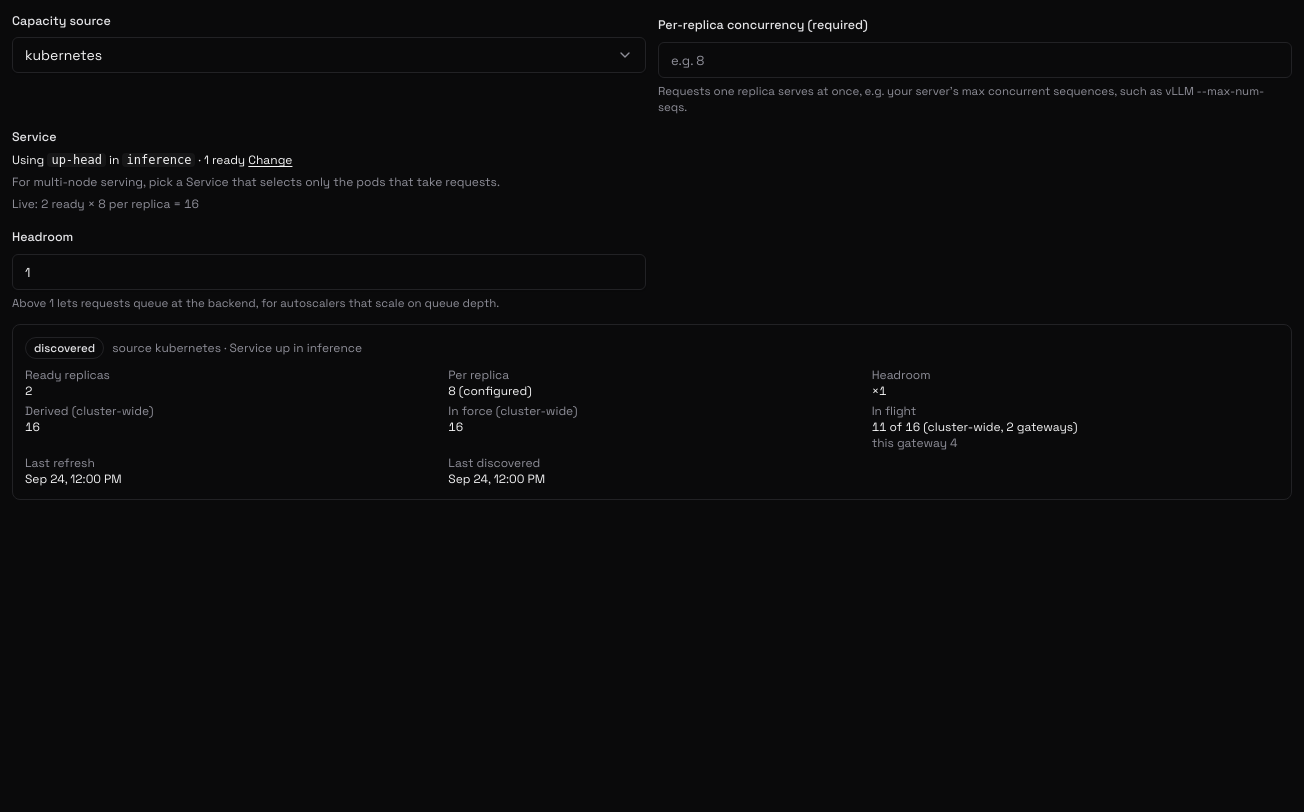
Test: the discovered capacity mode › clears the Service and namespace with Use default
Click the button "Change": (270, 160) [248,152,292,168]
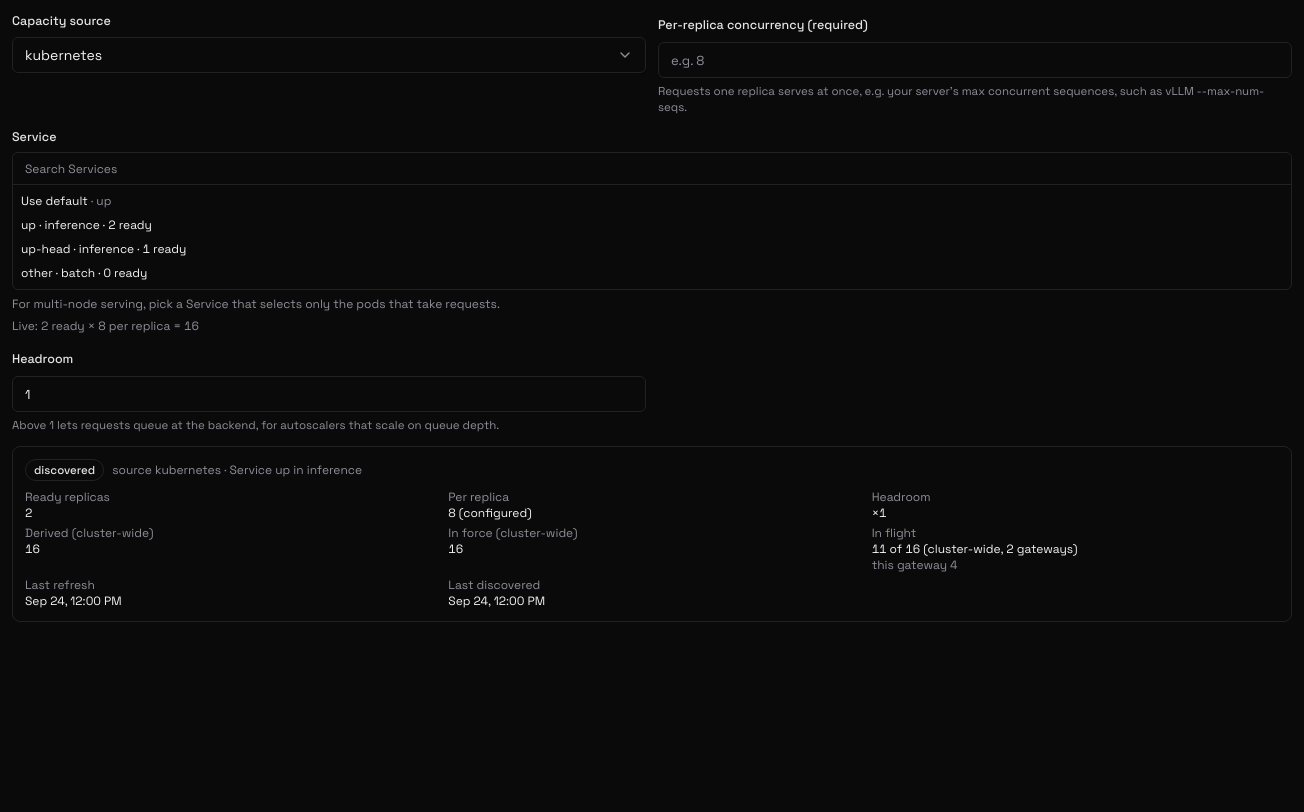
Click the option "Use default · up": (54, 201) [13,189,1291,213]
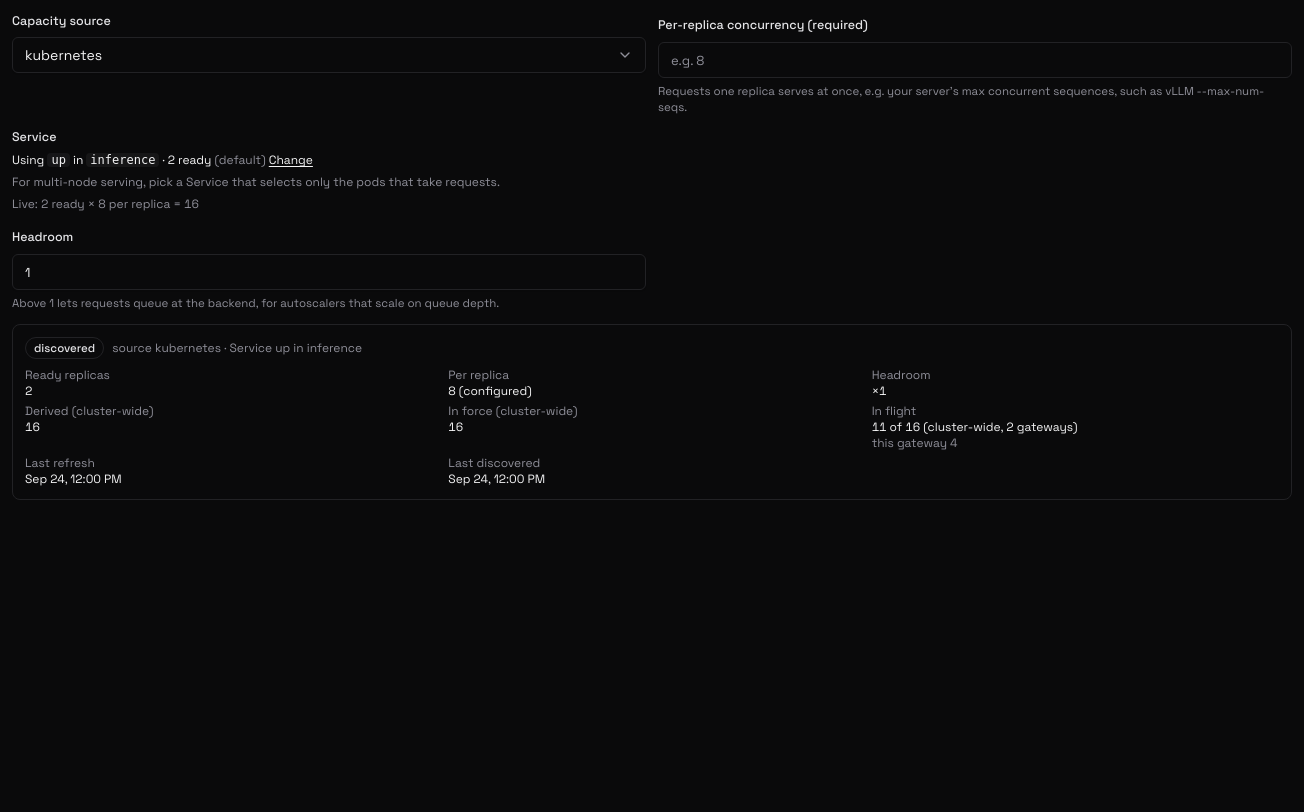
expect the element with test id "service-chosen" shows "(default)": met, box [211,152,266,168]
